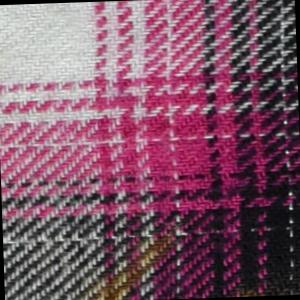Oil Stain: (79, 228, 190, 300), (225, 279, 267, 299)
